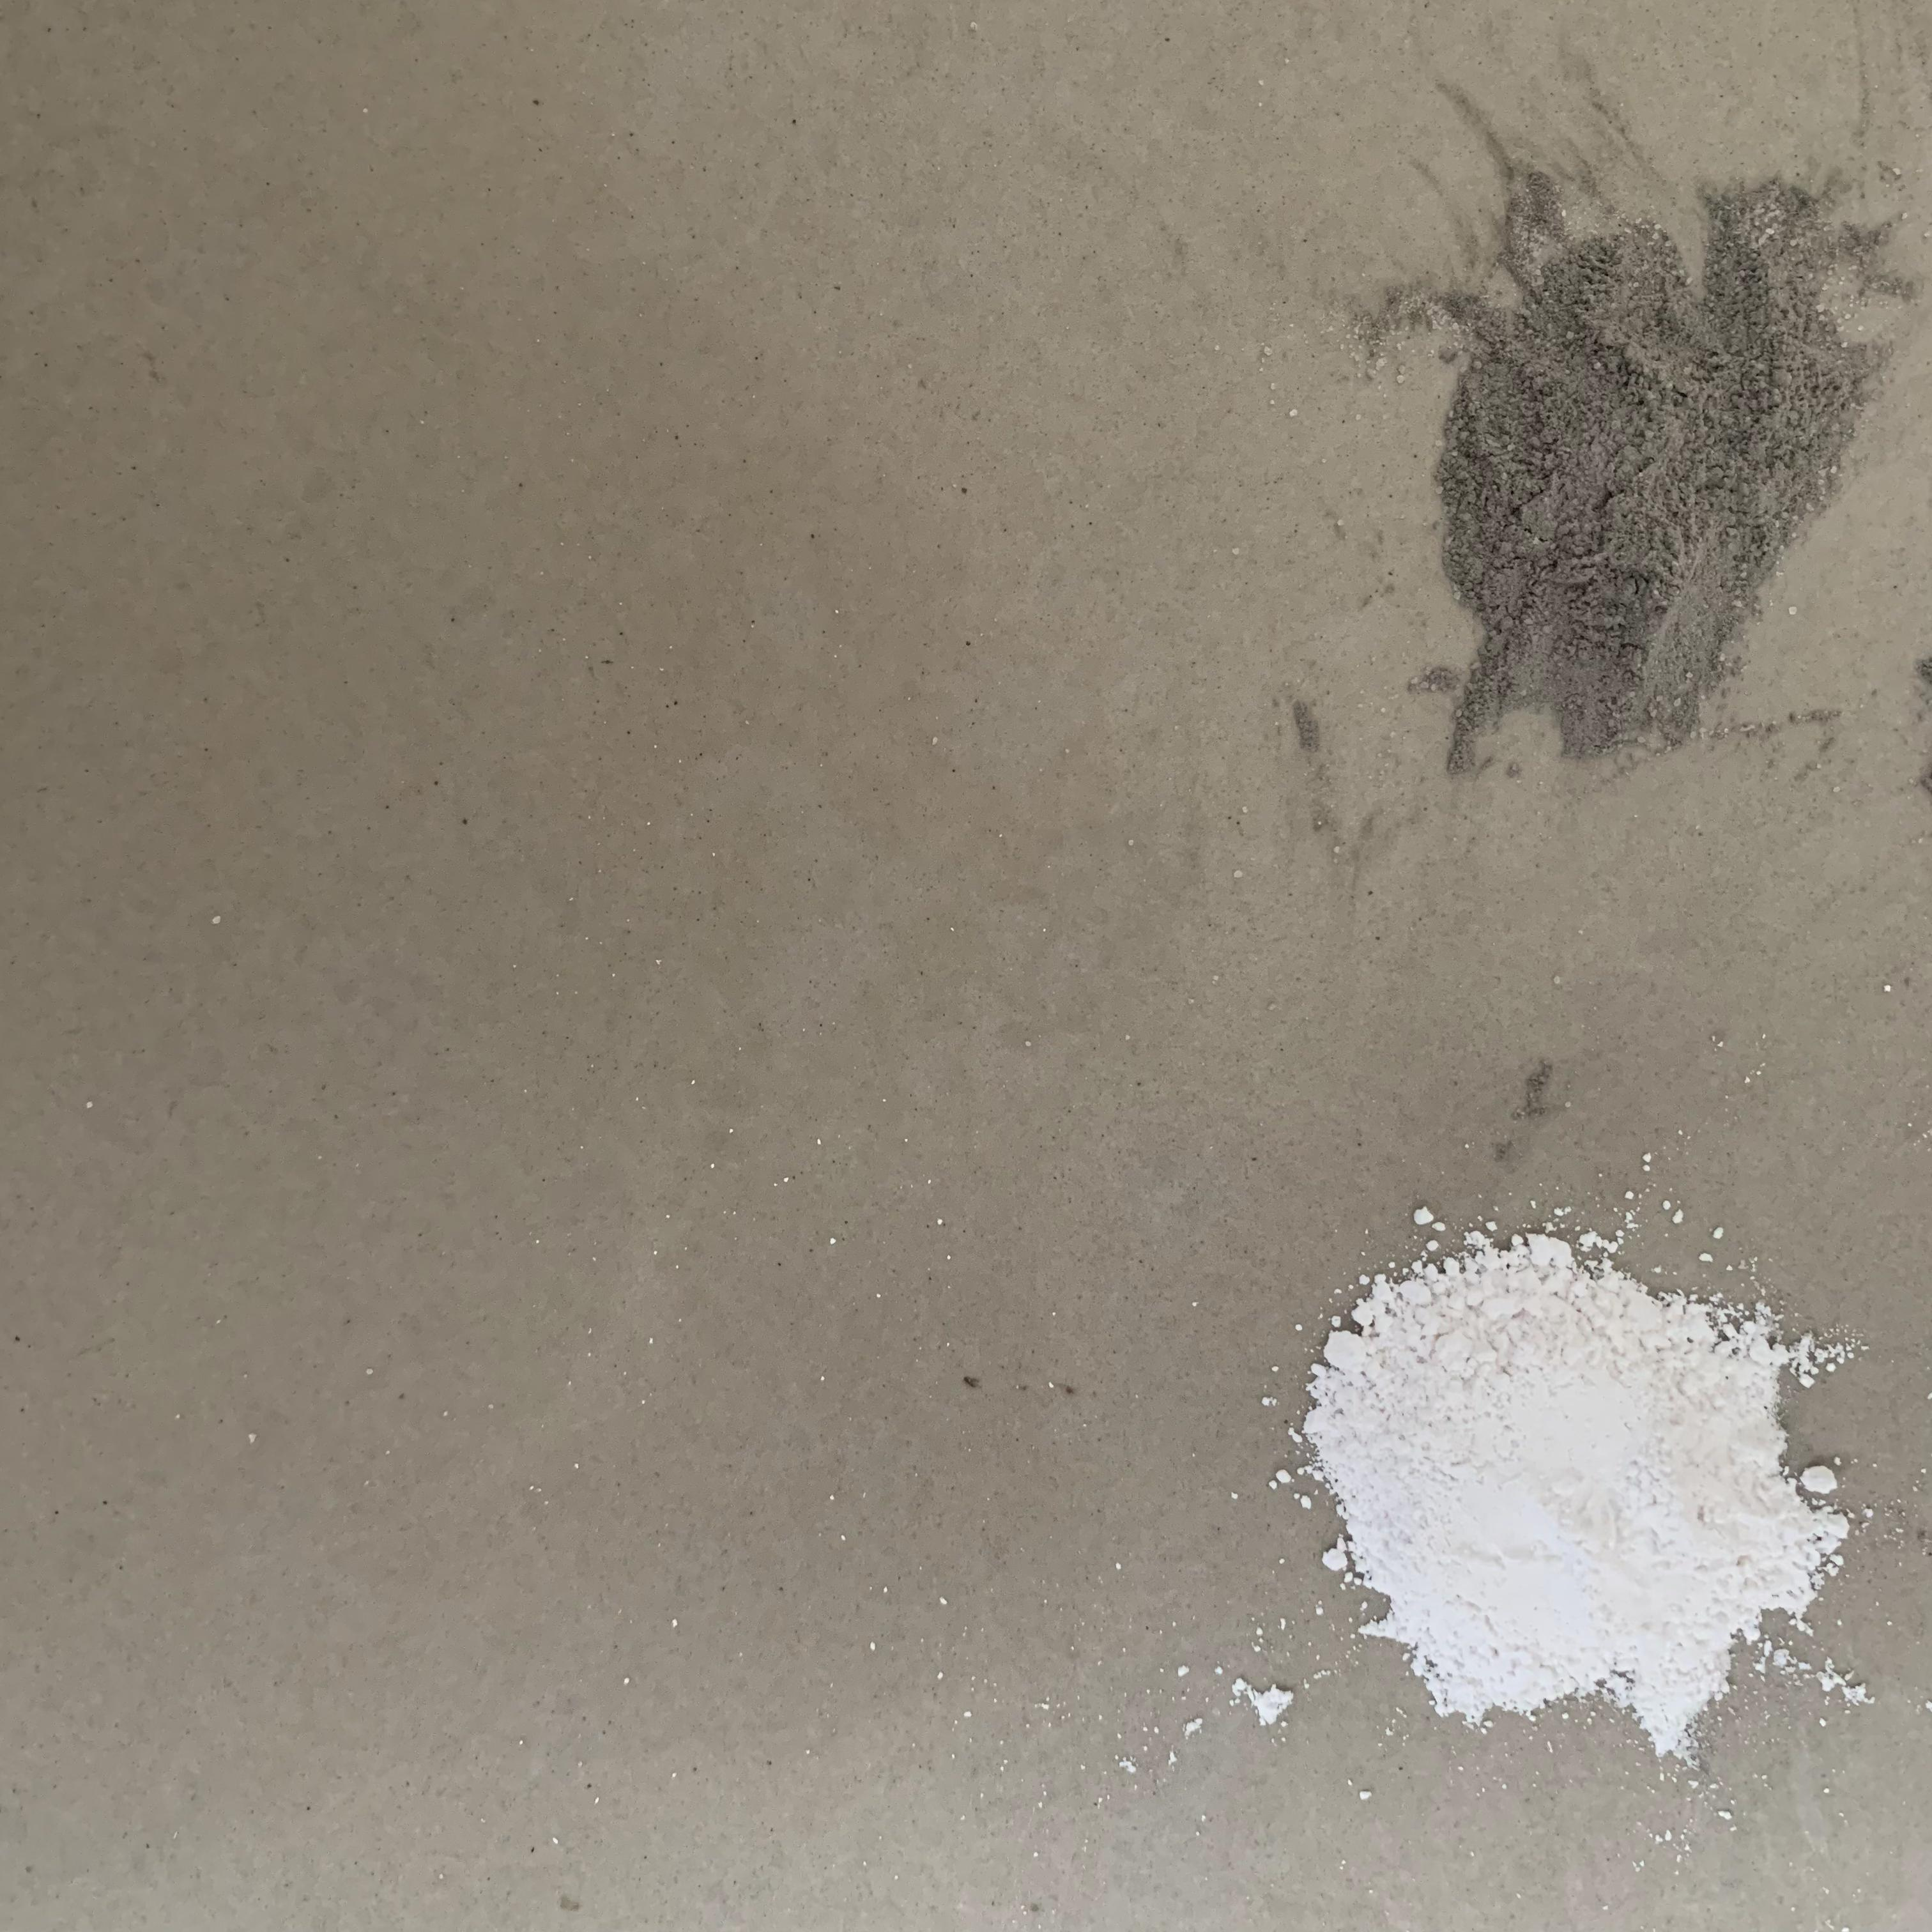ash pile: (1346, 55, 1932, 777), (1277, 1207, 1879, 1762), (1230, 1679, 1295, 1729)
